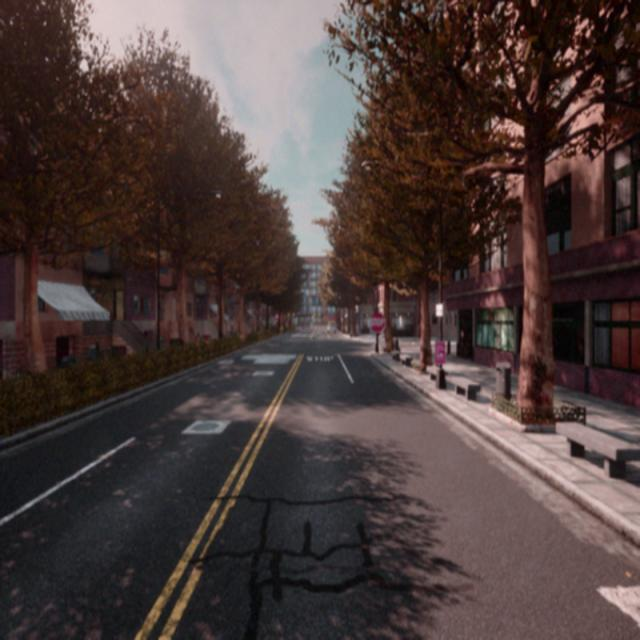stop sign: (366, 304, 388, 353), (368, 308, 387, 334), (369, 317, 385, 332)
